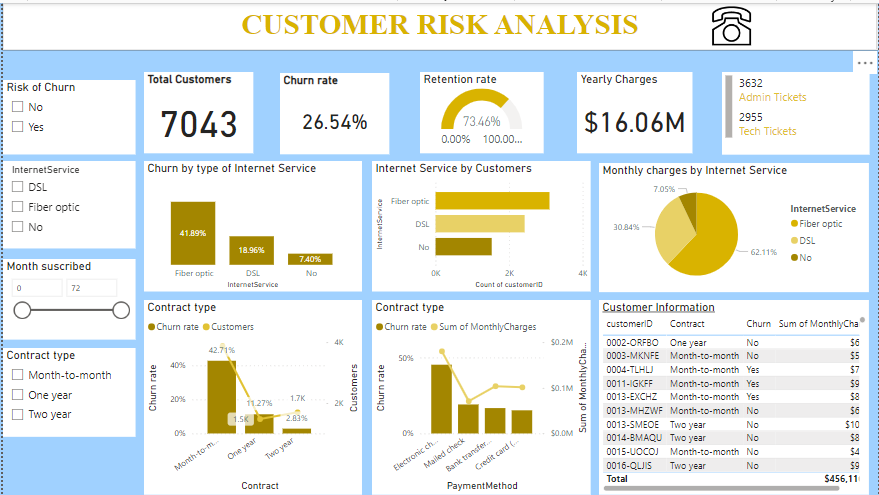

The page's visual inventory and layout, read from the dashboard file:
{"tool":"powerbi","page":{"name":"Customer risk Analysis","canvas":[1280,720],"ordinal":1},"visuals":[{"type":"textbox","box":[0,0,1280.5,68.8],"z":0},{"type":"card","title":"Total Customers","fields":{"Values":["CountNonNull(01 Churn-Dataset.customerID)"]},"box":[206.2,100.6,160.2,119.3],"z":1000},{"type":"lineClusteredColumnComboChart","title":"Contract type","fields":{"Category":["01 Churn-Dataset.Contract"],"Y":["01 Churn-Dataset.Churn rate"],"Y2":["CountNonNull(01 Churn-Dataset.customerID)"]},"box":[206.2,434.6,318.7,284.6],"z":2000},{"type":"clusteredColumnChart","title":"Churn by type of Internet Service","fields":{"Category":["01 Churn-Dataset.InternetService"],"Y":["01 Churn-Dataset.Churn rate"]},"box":[206.2,231.8,318.7,190.9],"z":3000},{"type":"clusteredBarChart","title":"Internet Service by Customers","fields":{"Category":["01 Churn-Dataset.InternetService"],"Y":["CountNonNull(01 Churn-Dataset.customerID)"]},"box":[540.3,231.8,320.4,190.9],"z":4000},{"type":"card","title":"Yearly Charges","fields":{"Values":["Sum(01 Churn-Dataset.TotalCharges)"]},"box":[840.3,100.6,168.7,119.3],"z":5000},{"type":"gauge","fields":{"Y":["01 Churn-Dataset.Retention rate"]},"box":[610.2,100.6,180.7,119.3],"z":6000},{"type":"slicer","title":"Contract type","fields":{"Values":["01 Churn-Dataset.Contract"]},"box":[0,504.5,194.3,129.5],"z":7000},{"type":"slicer","title":"Month suscribed","fields":{"Values":["01 Churn-Dataset.tenure"]},"box":[0,375,194.3,117.6],"z":8000},{"type":"image","box":[1066.7,0,13.4,67.2],"z":9000},{"type":"tableEx","title":"Customer Information","fields":{"Values":["01 Churn-Dataset.customerID","01 Churn-Dataset.Contract","01 Churn-Dataset.Churn","Sum(01 Churn-Dataset.MonthlyCharges)"]},"box":[872.6,434.6,395.4,284.6],"z":11000},{"type":"slicer","title":"Risk of Churn","fields":{"Values":["01 Churn-Dataset.Churn"]},"box":[0,112.5,194.3,109.1],"z":12000},{"type":"slicer","fields":{"Values":["01 Churn-Dataset.InternetService"]},"box":[0,231.8,194.3,127.8],"z":13000},{"type":"card","title":"Churn rate","fields":{"Values":["01 Churn-Dataset.Churn rate"]},"box":[405.6,102.3,160.2,119.3],"z":14000},{"type":"multiRowCard","title":"Admin tickets","fields":{"Values":["Sum(01 Churn-Dataset.numAdminTickets)","Sum(01 Churn-Dataset.numTechTickets)"]},"box":[1051.6,100.6,216.5,121],"z":15000},{"type":"pieChart","title":"Monthly charges by Internet Service ","fields":{"Category":["01 Churn-Dataset.InternetService"],"Y":["Sum(01 Churn-Dataset.MonthlyCharges)"]},"box":[872.6,233.5,395.4,189.2],"z":16000},{"type":"lineClusteredColumnComboChart","title":"Contract type","fields":{"Category":["01 Churn-Dataset.PaymentMethod"],"Y":["01 Churn-Dataset.Churn rate"],"Y2":["Sum(01 Churn-Dataset.MonthlyCharges)"]},"box":[540.3,434.6,320.4,284.6],"z":17000},{"type":"image","box":[1009.6,0,112.5,67.2],"z":17500},{"type":"shape","box":[0,0,109.1,66.5],"z":18001}]}

Visuals, with their boxes in screenshot pixels (x1, y1, x2, y2), scaled from the page's 1280x720 canvas onto the 879x495 screenshot:
textbox: box=[0, 0, 878, 47]
"Total Customers" card: box=[142, 69, 252, 151]
"Contract type" lineClusteredColumnComboChart: box=[142, 299, 360, 494]
"Churn by type of Internet Service" clusteredColumnChart: box=[142, 159, 360, 291]
"Internet Service by Customers" clusteredBarChart: box=[371, 159, 591, 291]
"Yearly Charges" card: box=[577, 69, 693, 151]
gauge - 01 Churn-Dataset.Retention rate: box=[419, 69, 543, 151]
"Contract type" slicer: box=[0, 347, 133, 436]
"Month suscribed" slicer: box=[0, 258, 133, 339]
image: box=[733, 0, 742, 46]
"Customer Information" tableEx: box=[599, 299, 871, 494]
"Risk of Churn" slicer: box=[0, 77, 133, 152]
slicer - 01 Churn-Dataset.InternetService: box=[0, 159, 133, 247]
"Churn rate" card: box=[279, 70, 389, 152]
"Admin tickets" multiRowCard: box=[722, 69, 871, 152]
"Monthly charges by Internet Service " pieChart: box=[599, 161, 871, 291]
"Contract type" lineClusteredColumnComboChart: box=[371, 299, 591, 494]
image: box=[693, 0, 771, 46]
shape: box=[0, 0, 75, 46]
